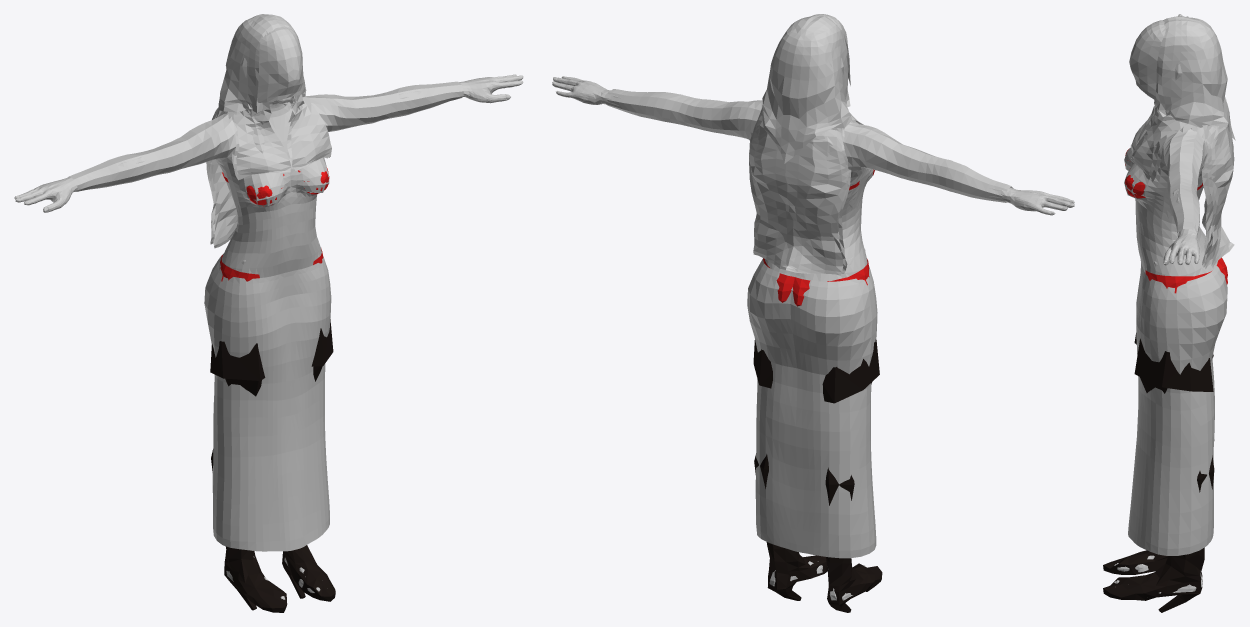
The model's file is allison_clothed.obj.
3 views of the same model, side by side, from view 1: azimuth 30°, elevation 25°; view 2: azimuth 150°, elevation 25°; view 3: azimuth 270°, elevation 25° (orthographic). The views are drawn at different scales.
Visible parts, largest first — view 1: Allison, long, Boots, Bikini; view 2: Allison, long, Boots, Bikini; view 3: Allison, long, Boots, Bikini.
Boxes of the visible parts, x1,y1,x2,y2 form: Allison: (14,74,523,599); long: (206,14,331,248); Boots: (210,319,335,612); Bikini: (220,167,329,281); Allison: (552,76,1074,600); long: (749,14,863,275); Boots: (753,339,882,612); Bikini: (763,169,874,306); Allison: (1114,14,1227,593); long: (1129,16,1235,268); Boots: (1103,333,1214,612); Bikini: (1125,148,1227,293).
Bounding box in the file's own units: 15.16 × 16.51 × 3.42.
